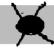not correct: (8, 1, 54, 49)
